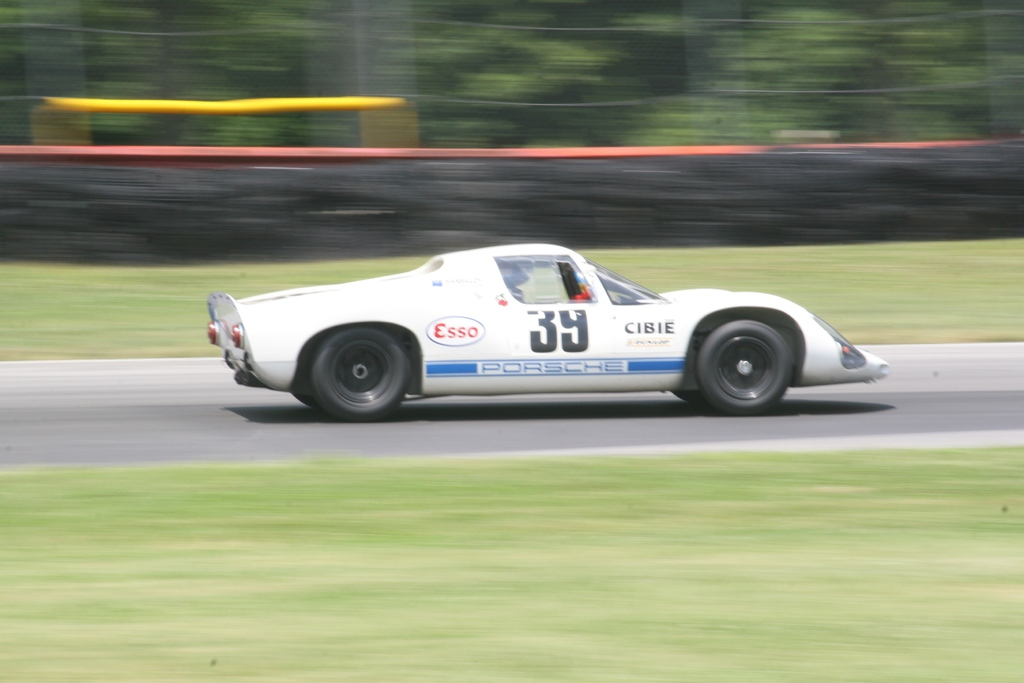Car: (206, 241, 887, 422)
